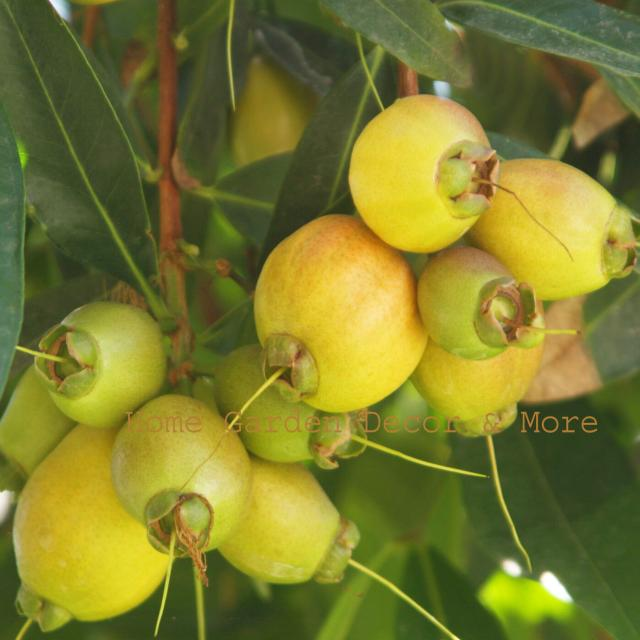Medicinal-Rose Apple: (0, 0, 640, 640)
